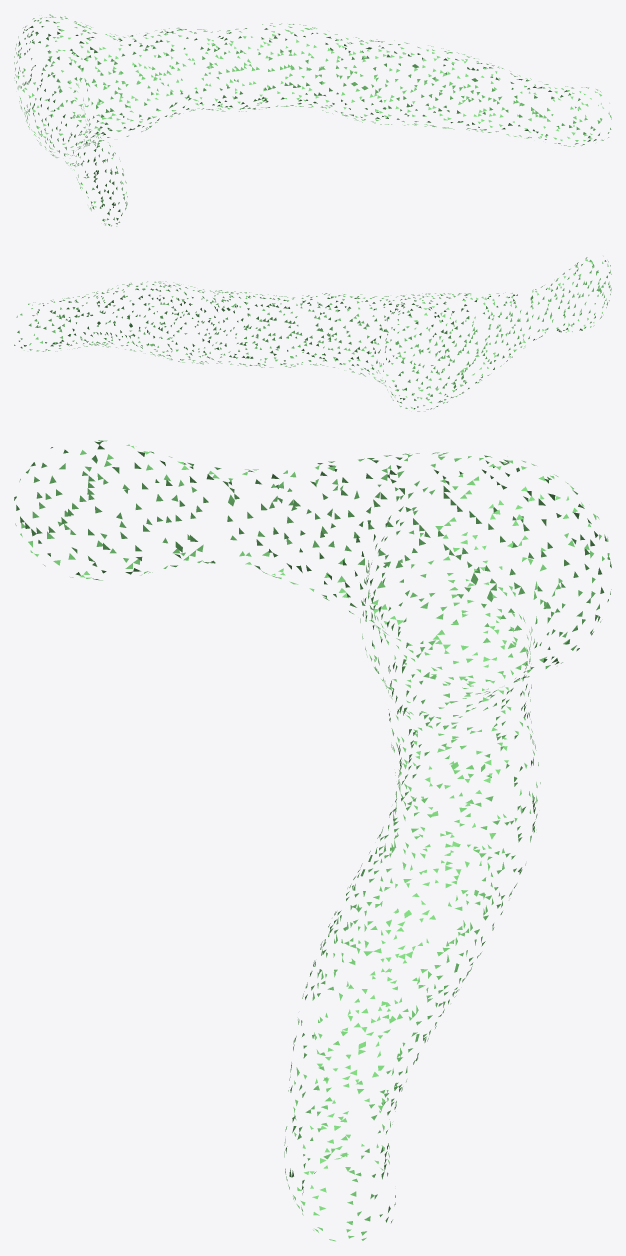
Rendered from morph_017.glb.
3 renders of one model, top to bottom at view 1: azimuth 30°, elevation 25°; view 2: azimuth 150°, elevation 25°; view 3: azimuth 270°, elevation 25°, orthographic. The views are drawn at different scales.
Size of the model in its own units: 109 by 37.73 by 56.52.
